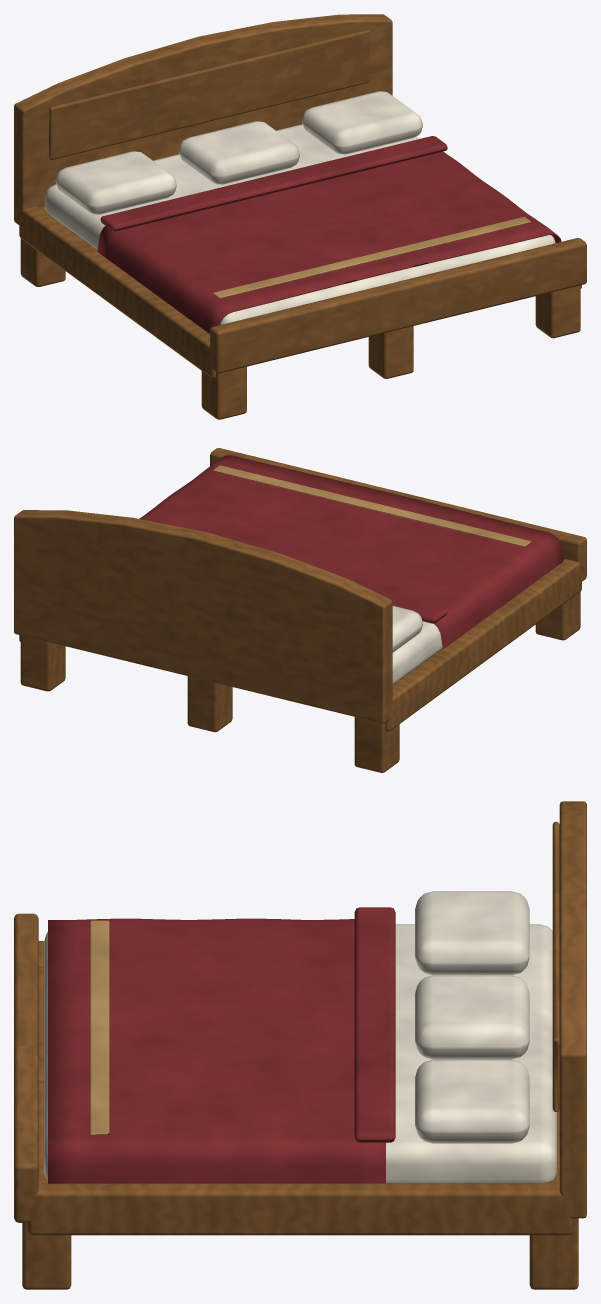
The model's file is Furn_Bed.fbx.
3 renders of one model, top to bottom at view 1: azimuth 30°, elevation 25°; view 2: azimuth 150°, elevation 25°; view 3: azimuth 270°, elevation 25°, orthographic. The views are drawn at different scales.
Visible parts, largest first — view 1: Furn_Bed_Mesh; view 2: Furn_Bed_Mesh; view 3: Furn_Bed_Mesh.
Boxes of the visible parts, box(x1,y1,x2,y2) form: Furn_Bed_Mesh: box(14, 14, 586, 419); Furn_Bed_Mesh: box(14, 448, 586, 772); Furn_Bed_Mesh: box(14, 801, 586, 1289).
Bounding box in the file's own units: 2.2 × 1.1 × 2.1.
Materials: 4 (4 with a texture image).
